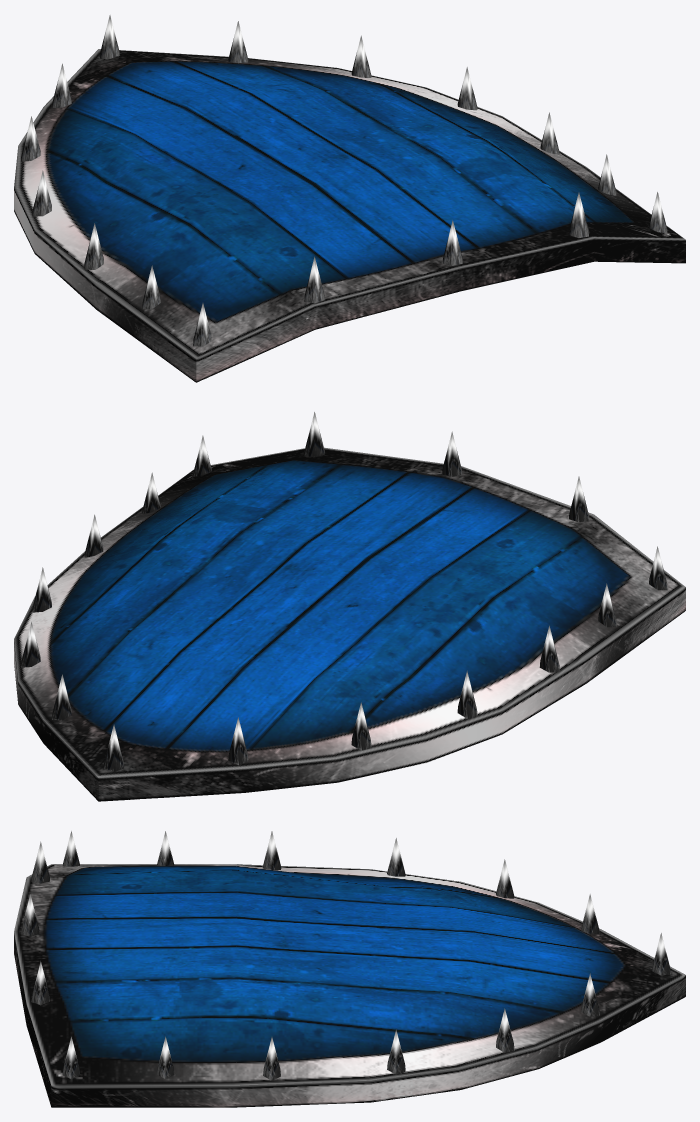
File: Sheild_50.obj
The picture shows the model from 3 angles, top to bottom: view 1: azimuth 30°, elevation 25°; view 2: azimuth 150°, elevation 25°; view 3: azimuth 270°, elevation 25°; orthographic projection. The views are drawn at different scales.
Parts seen in each view (by area): view 1: Sheil_50; view 2: Sheil_50; view 3: Sheil_50.
Boxes of the visible parts, x1,y1,x2,y2 form: Sheil_50: (14,15,685,382); Sheil_50: (14,412,685,801); Sheil_50: (14,831,685,1107).
Size of the model in its own units: 11.35 by 2.47 by 14.56.
